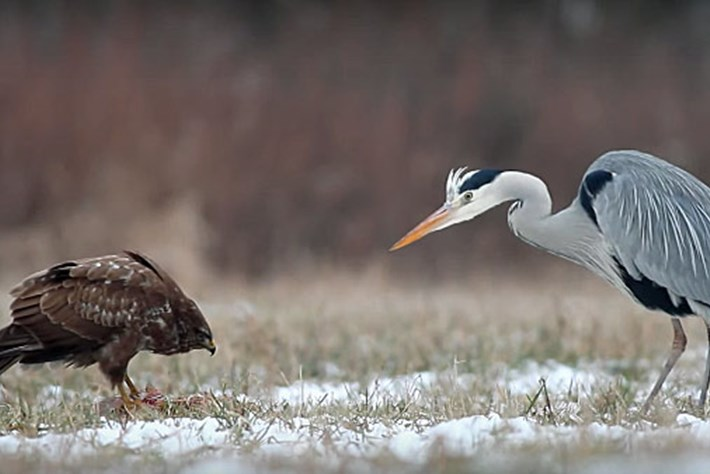heron: (385, 142, 710, 413)
